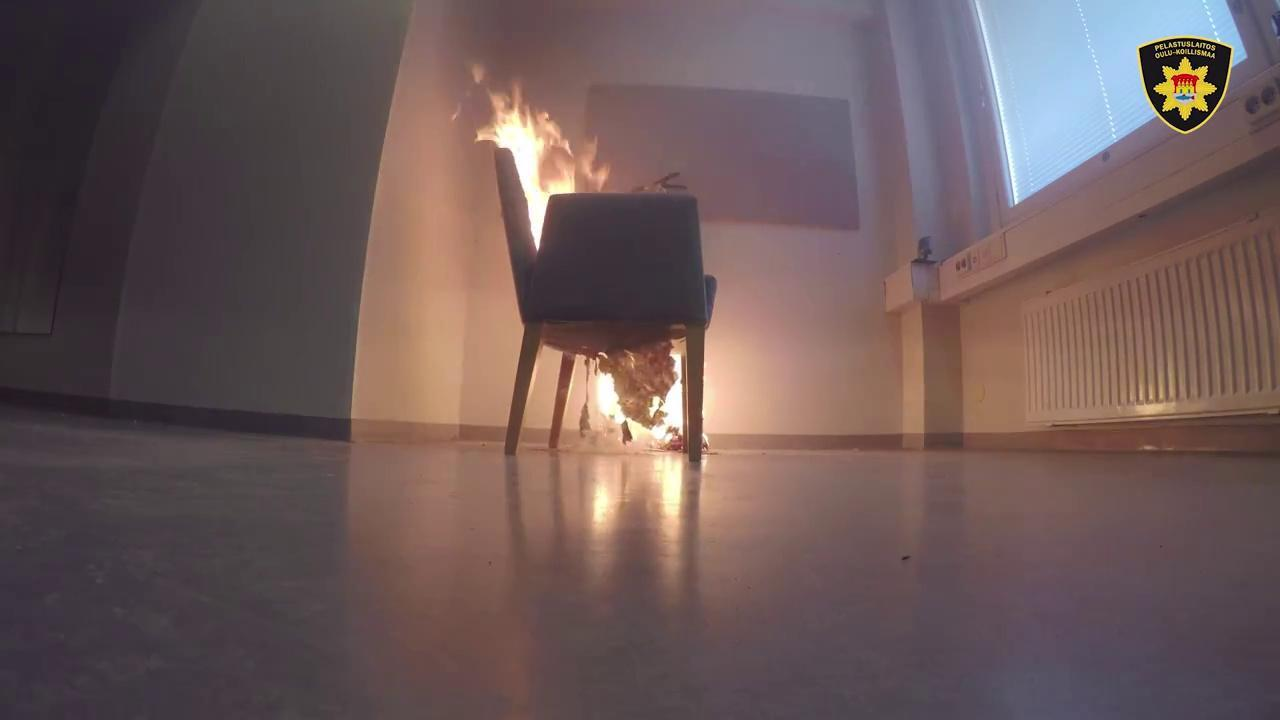fire: (550, 319, 712, 470), (475, 69, 618, 232)
